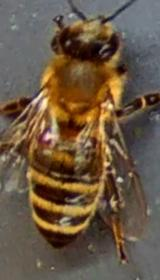varroa_mite: (22, 124, 68, 150)
